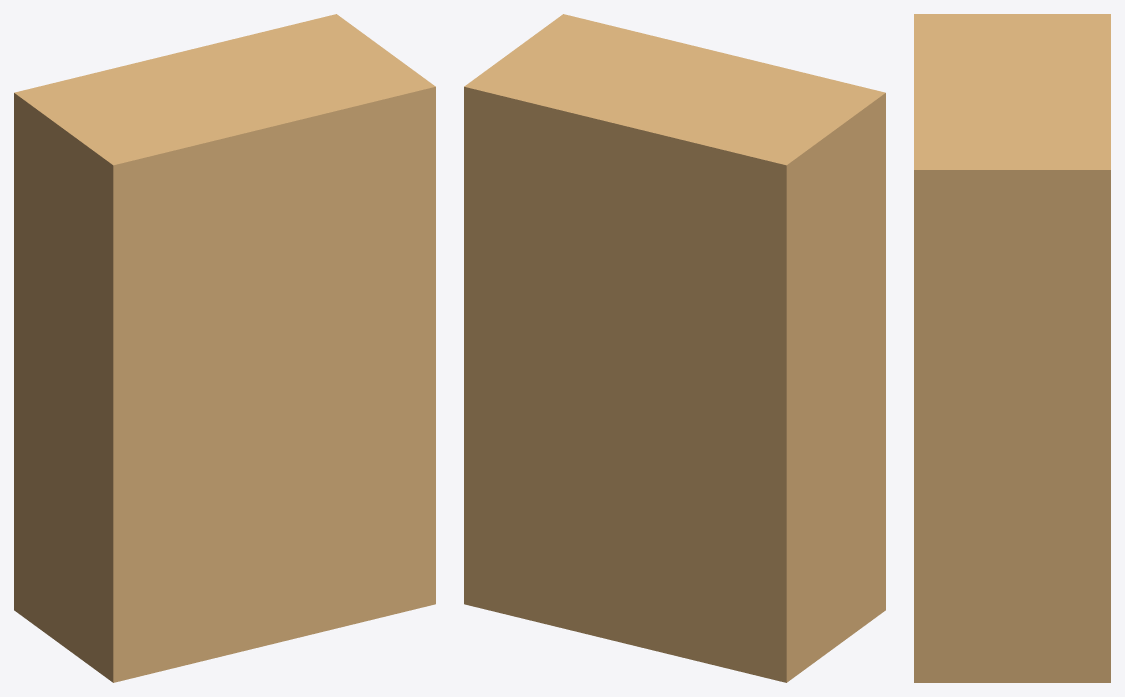
The model's file is product_cereal.glb.
3 views of the same model, side by side, from view 1: azimuth 30°, elevation 25°; view 2: azimuth 150°, elevation 25°; view 3: azimuth 270°, elevation 25° (orthographic).
Visible parts, largest first — view 1: body.011; view 2: body.011; view 3: body.011.
Boxes of the visible parts, <box> form: body.011: <box>14,14,435,682</box>; body.011: <box>464,14,885,682</box>; body.011: <box>914,14,1110,682</box>.
Bounding box in the file's own units: 0.3 × 0.46 × 0.16.
